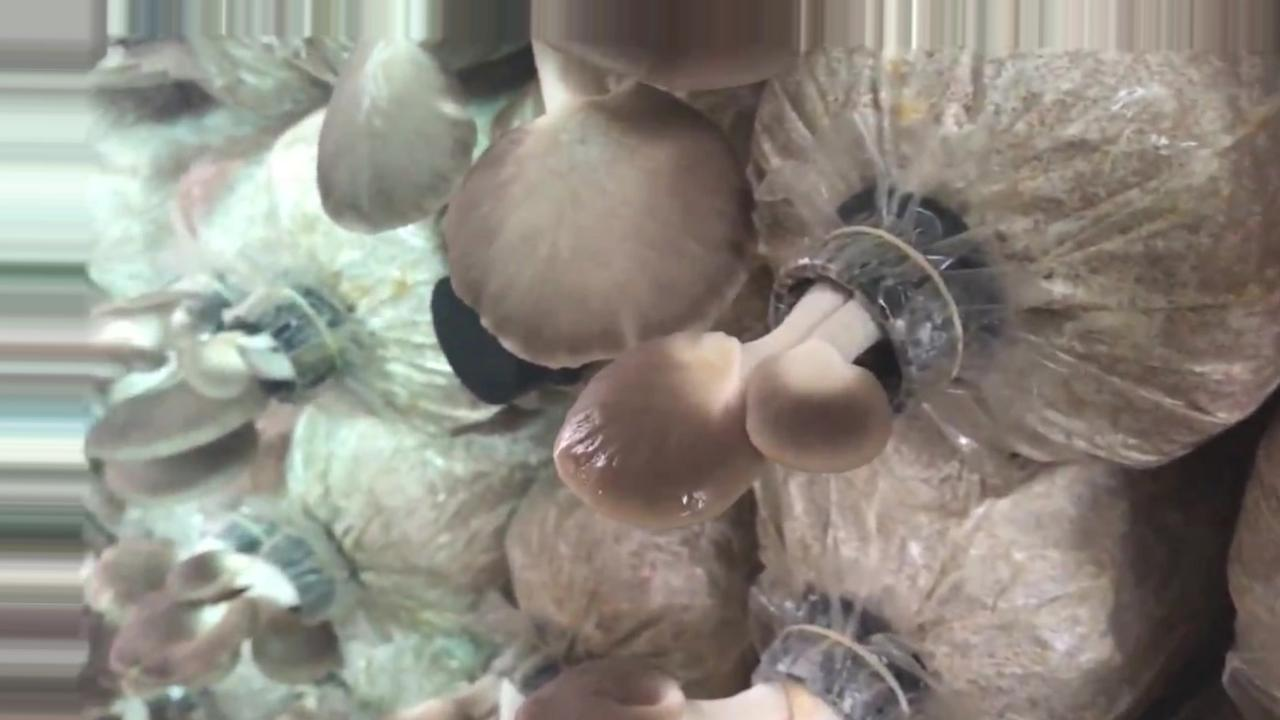nam: (319, 1, 820, 373), (548, 218, 960, 538), (86, 284, 335, 509), (519, 600, 907, 720), (95, 521, 335, 695), (99, 520, 266, 612)
